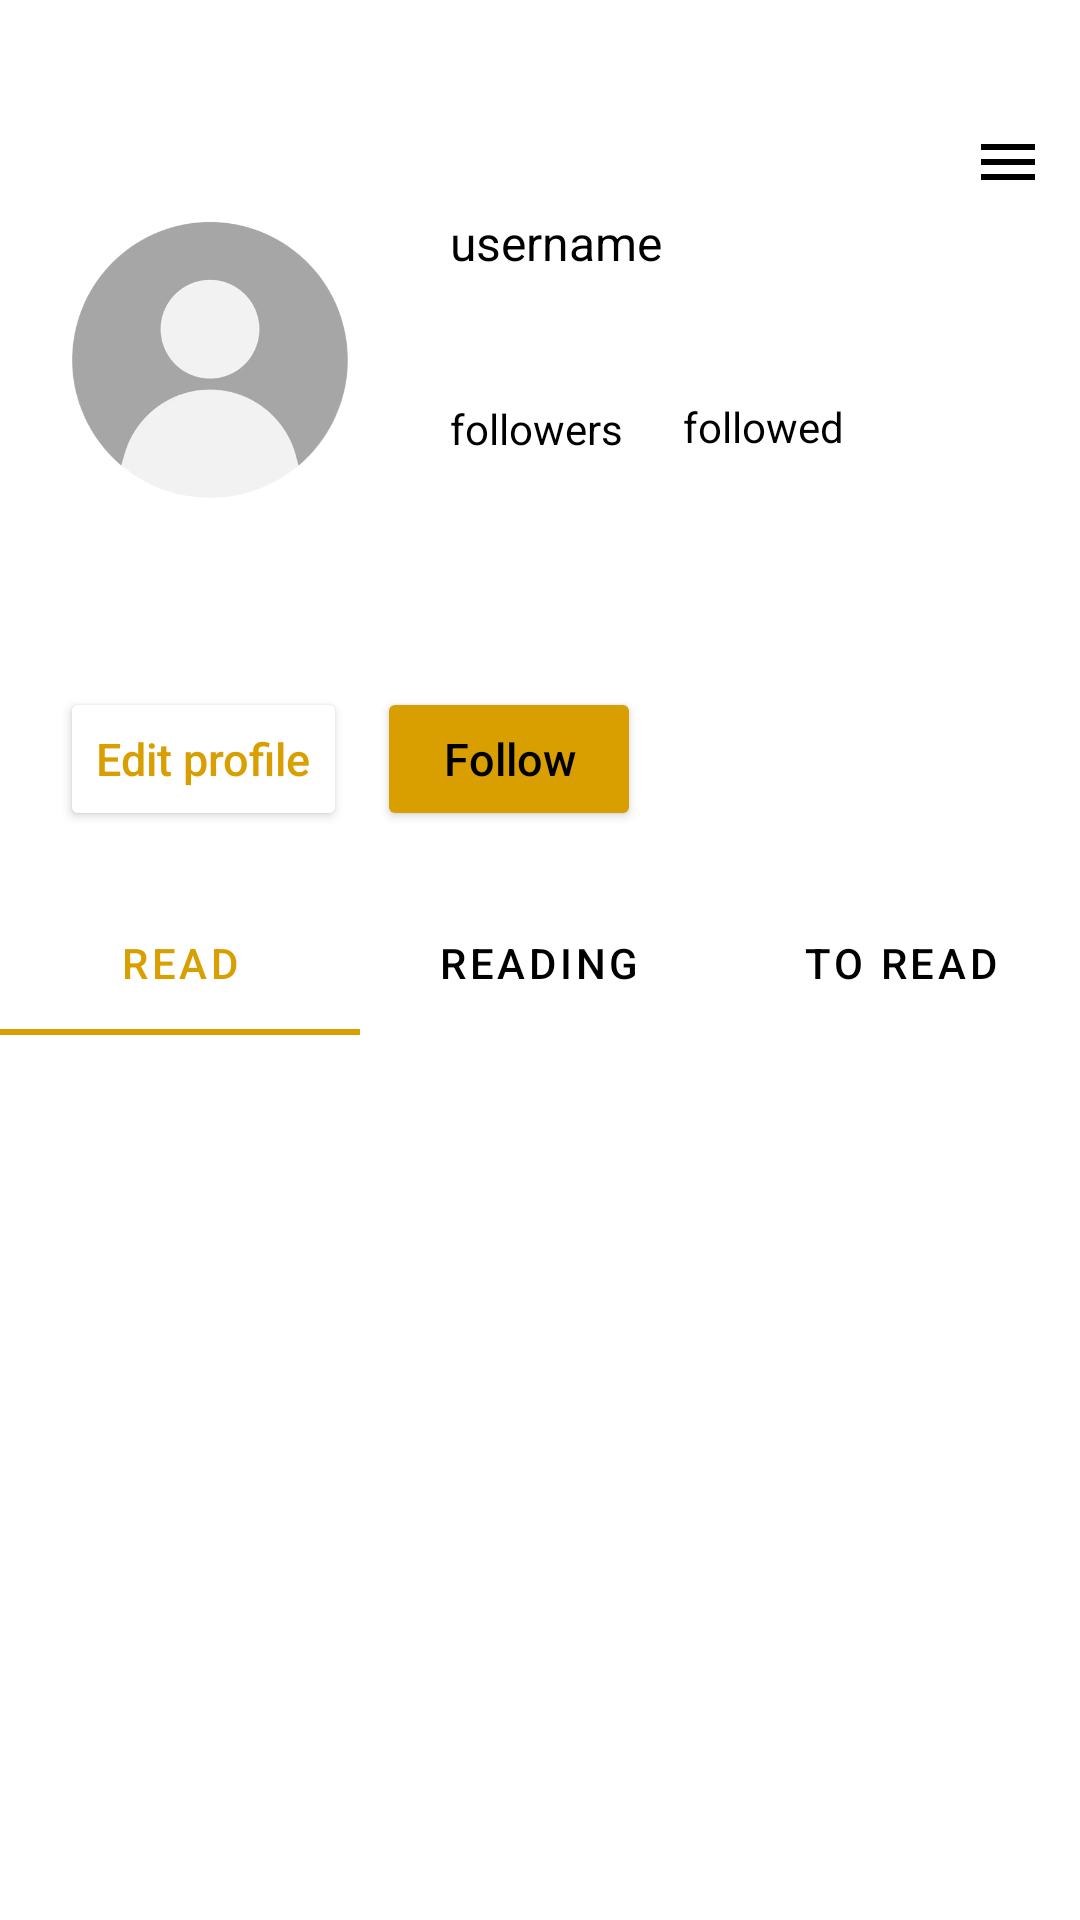

Where icons sit on this 1080 × 1920 app screen, as (x1, y1, x2, y2):
menu: (981, 144, 1035, 180)
Profile picture: (72, 222, 348, 466)
